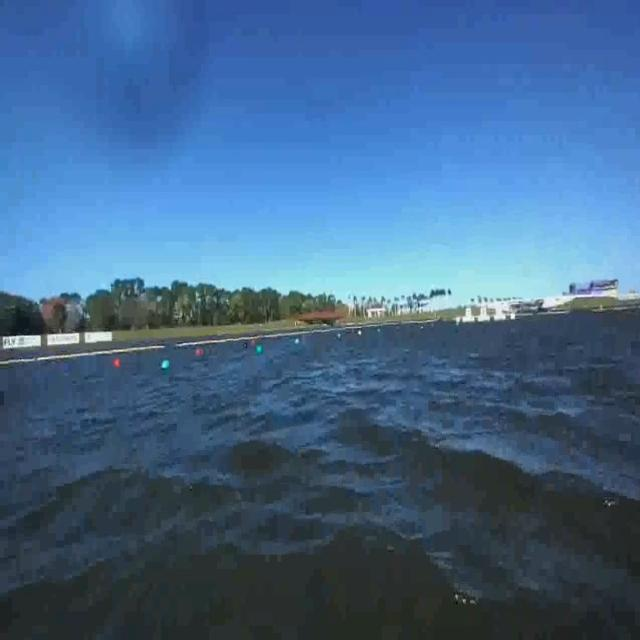green-buoy: (162, 359, 172, 370), (255, 345, 263, 356)
red-buoy: (113, 358, 121, 368)
